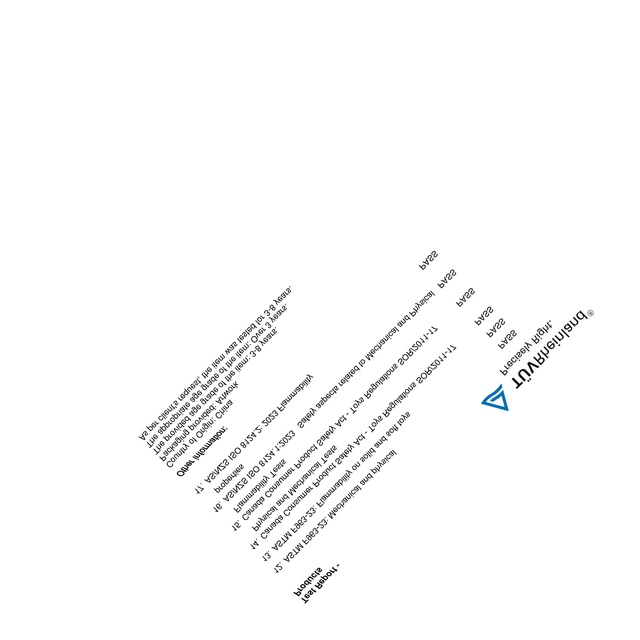tuv_rheinland: (481, 306, 597, 414)
